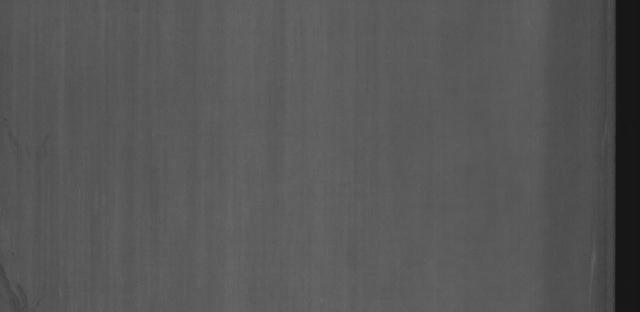water_spot: (0, 251, 43, 311)
